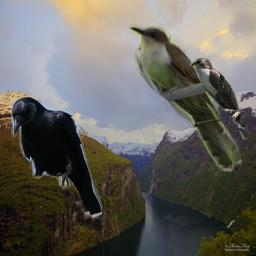Crow: (10, 96, 102, 220)
Cuckoo: (128, 23, 242, 172), (190, 58, 252, 140)
